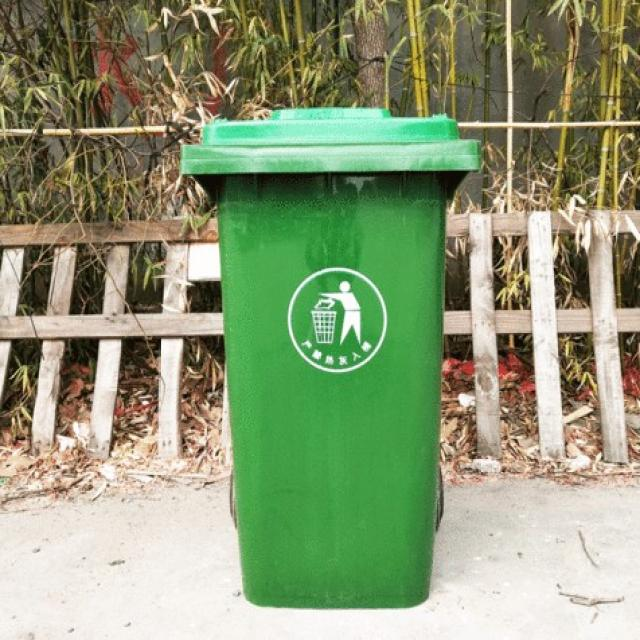garbage_bin: (182, 107, 478, 608)
